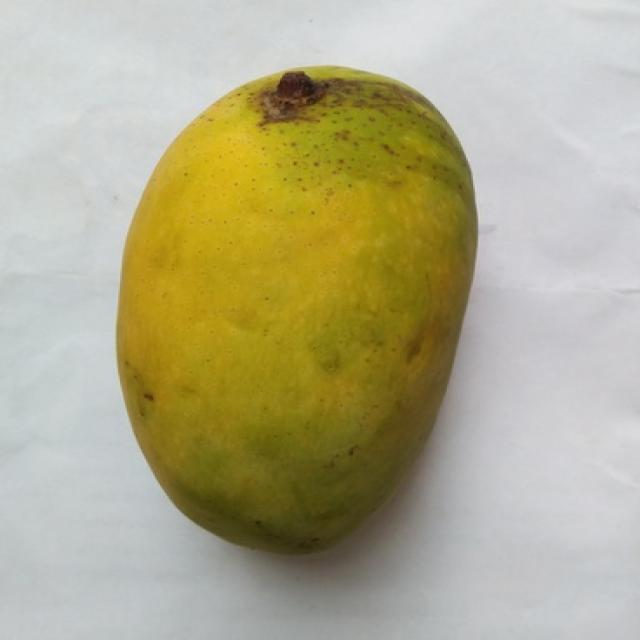Mango: (117, 68, 475, 550)
